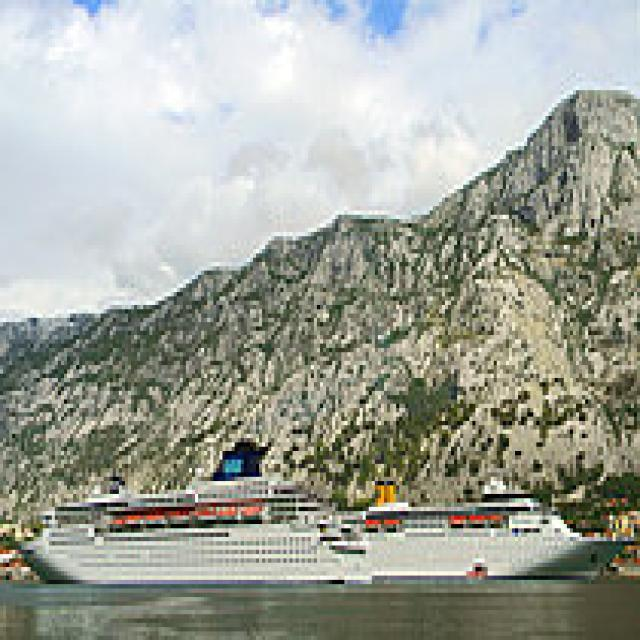Ship: (22, 456, 379, 607), (358, 478, 638, 598)
